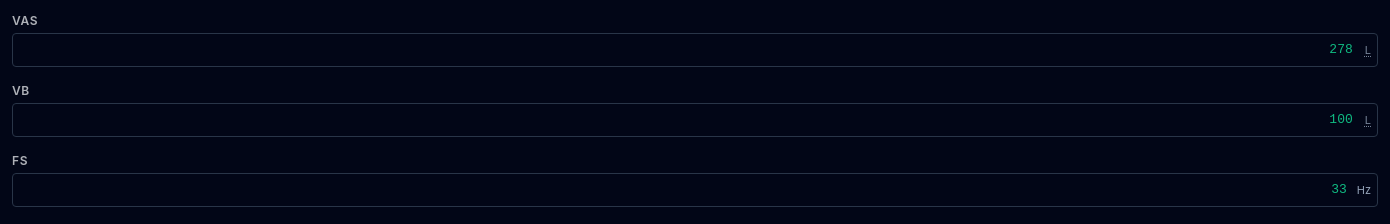
Scenario: units shared across fields › switches every field of that quantity together, and persists the choice
This screenshot has width=1390, height=224.
Expected: the number field showing "278" is shown, [13,34,1363,66]
Expected: the number field showing "100" is shown, [13,104,1363,136]
Click the button named "change unit".
click(1370, 50)  # box [1363,42,1377,58]
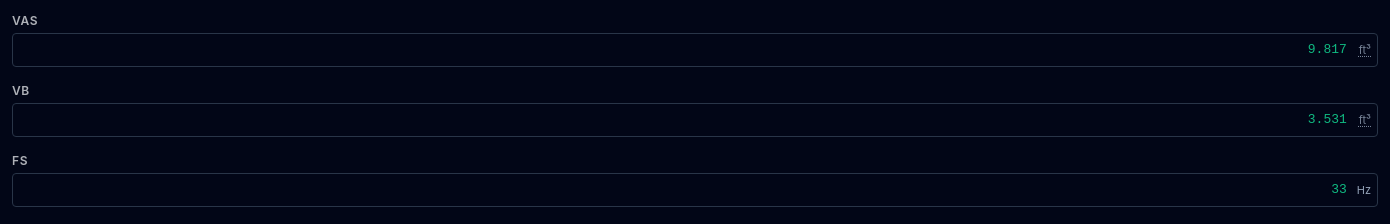
Expected: the number field showing "33" is shown, [13,174,1357,206]
Expected: the number field showing "9.817" is shown, [13,34,1357,66]
Expected: the number field showing "3.531" is shown, [13,104,1357,136]
